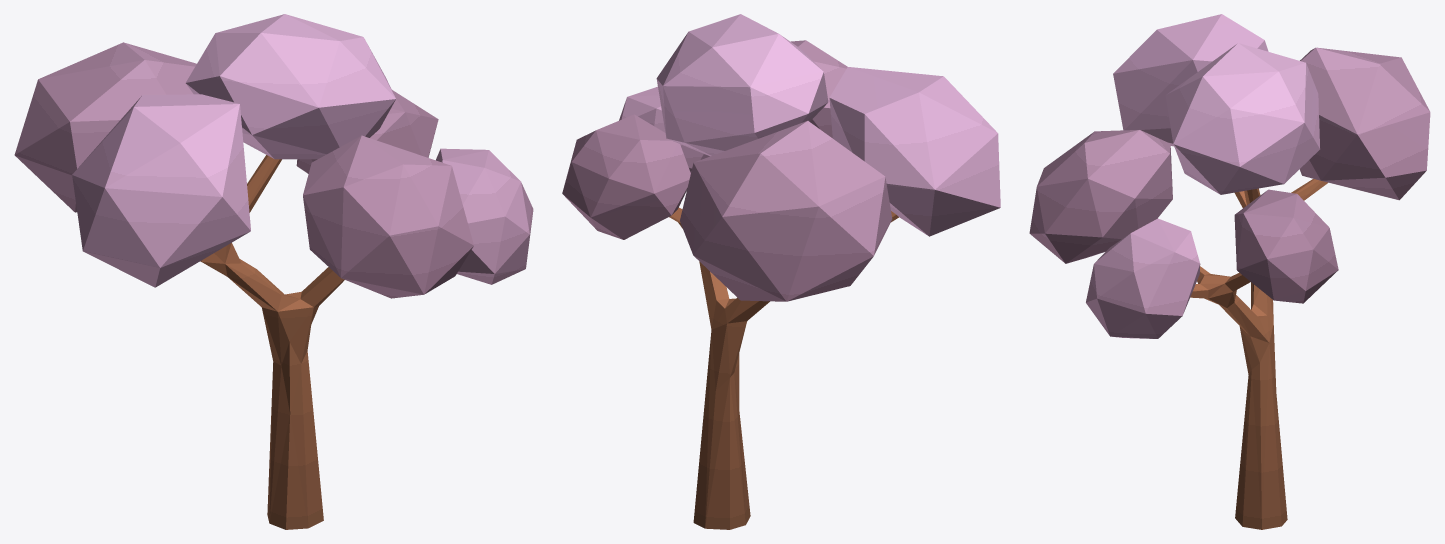
File: tree_sakura.glb
3 renders of one model, left to right at view 1: azimuth 30°, elevation 25°; view 2: azimuth 150°, elevation 25°; view 3: azimuth 270°, elevation 25°, orthographic. The views are drawn at different scales.
Visible parts, largest first — view 1: tree_sakura; view 2: tree_sakura; view 3: tree_sakura.
Boxes of the visible parts, x1,y1,x2,y2 form: tree_sakura: [14, 14, 533, 529]; tree_sakura: [562, 14, 1000, 529]; tree_sakura: [1029, 14, 1430, 529].
Size of the model in its own units: 4.93 by 5.6 by 4.47.
1 material, 1 textured.
